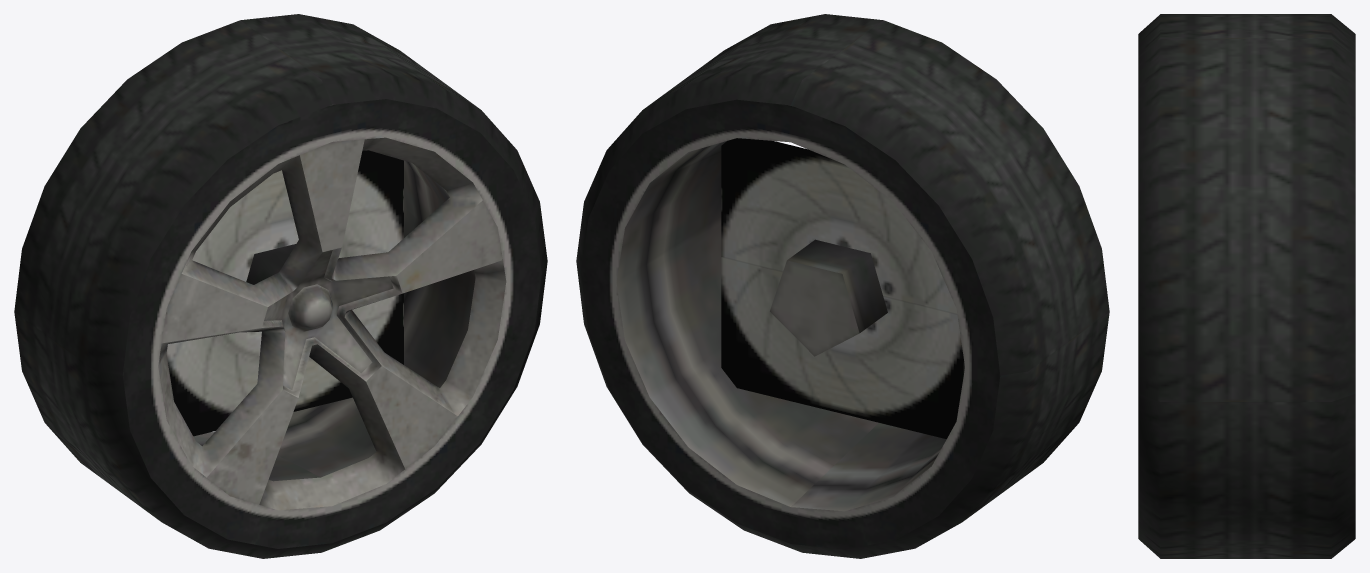
File: v_a_classicmuscle_Wheels_19_SkeletalMesh3_SkeletalMesh_0.psk.glb
3 renders of one model, left to right at view 1: azimuth 30°, elevation 25°; view 2: azimuth 150°, elevation 25°; view 3: azimuth 270°, elevation 25°, orthographic. The views are drawn at different scales.
Size of the model in its own units: 67.92 by 67.92 by 26.94.
Materials: 1 (1 with a texture image).
